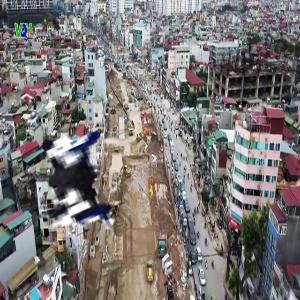drone: (15, 80, 189, 254)
